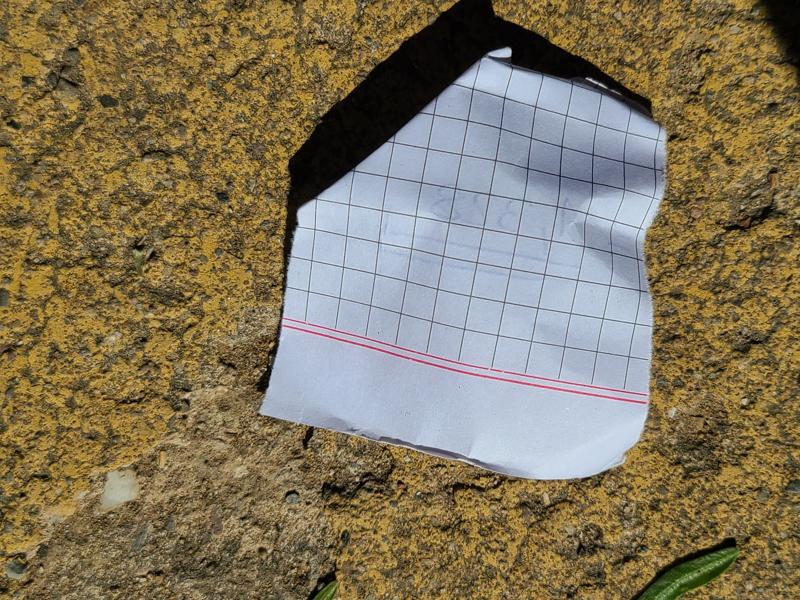papel: (259, 53, 667, 482)
